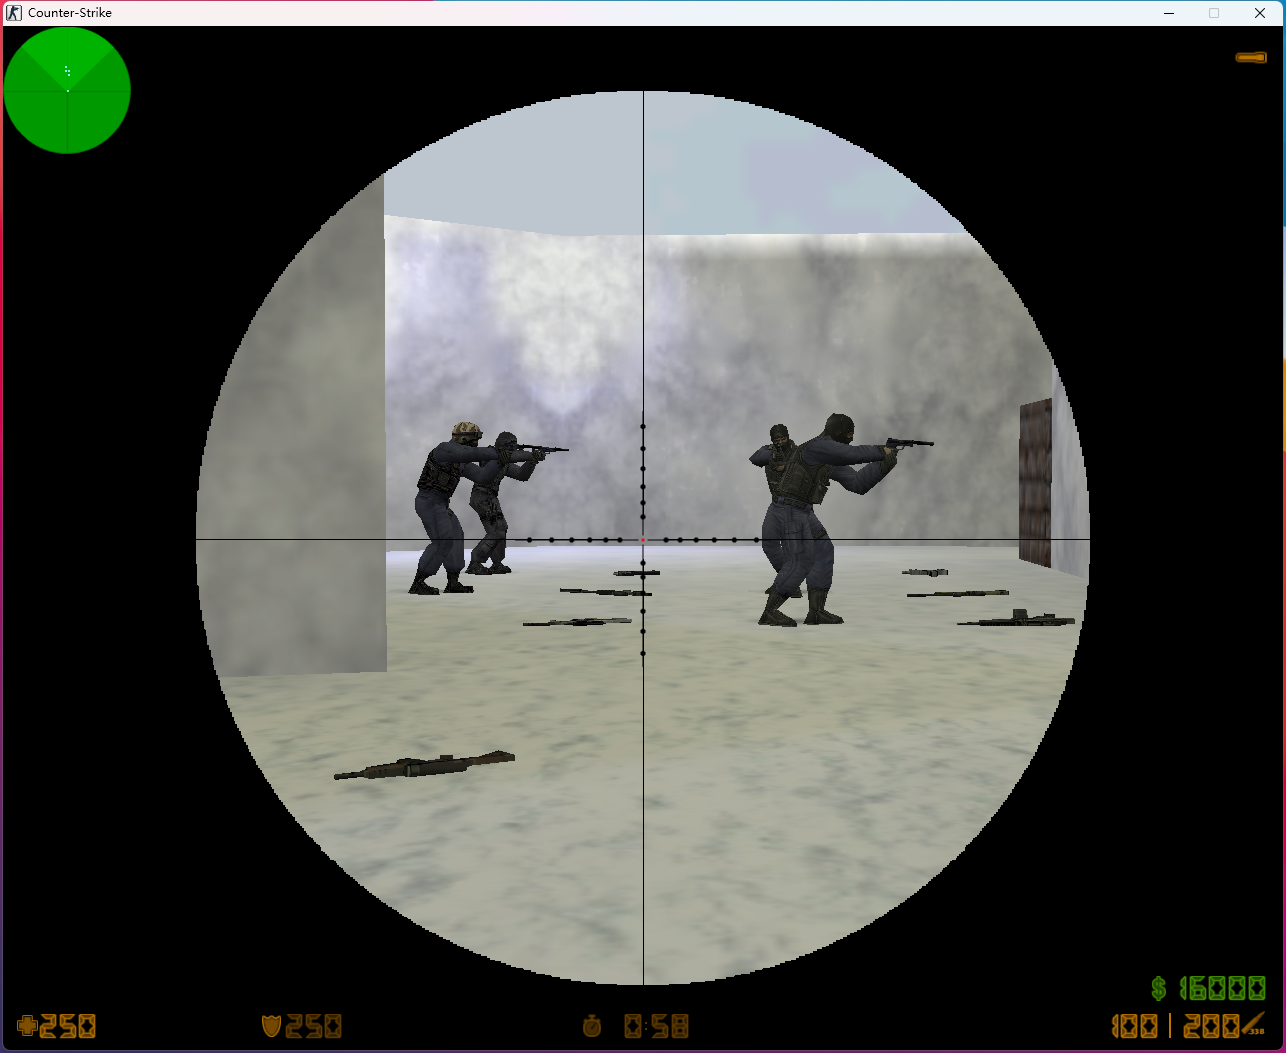C: (770, 414, 899, 628), (410, 422, 475, 595), (751, 423, 806, 597), (471, 433, 531, 576)
weapon: (333, 748, 515, 783), (955, 611, 1075, 628), (556, 582, 652, 601), (904, 588, 1008, 603), (515, 616, 631, 629), (900, 565, 946, 579), (613, 566, 659, 578)
